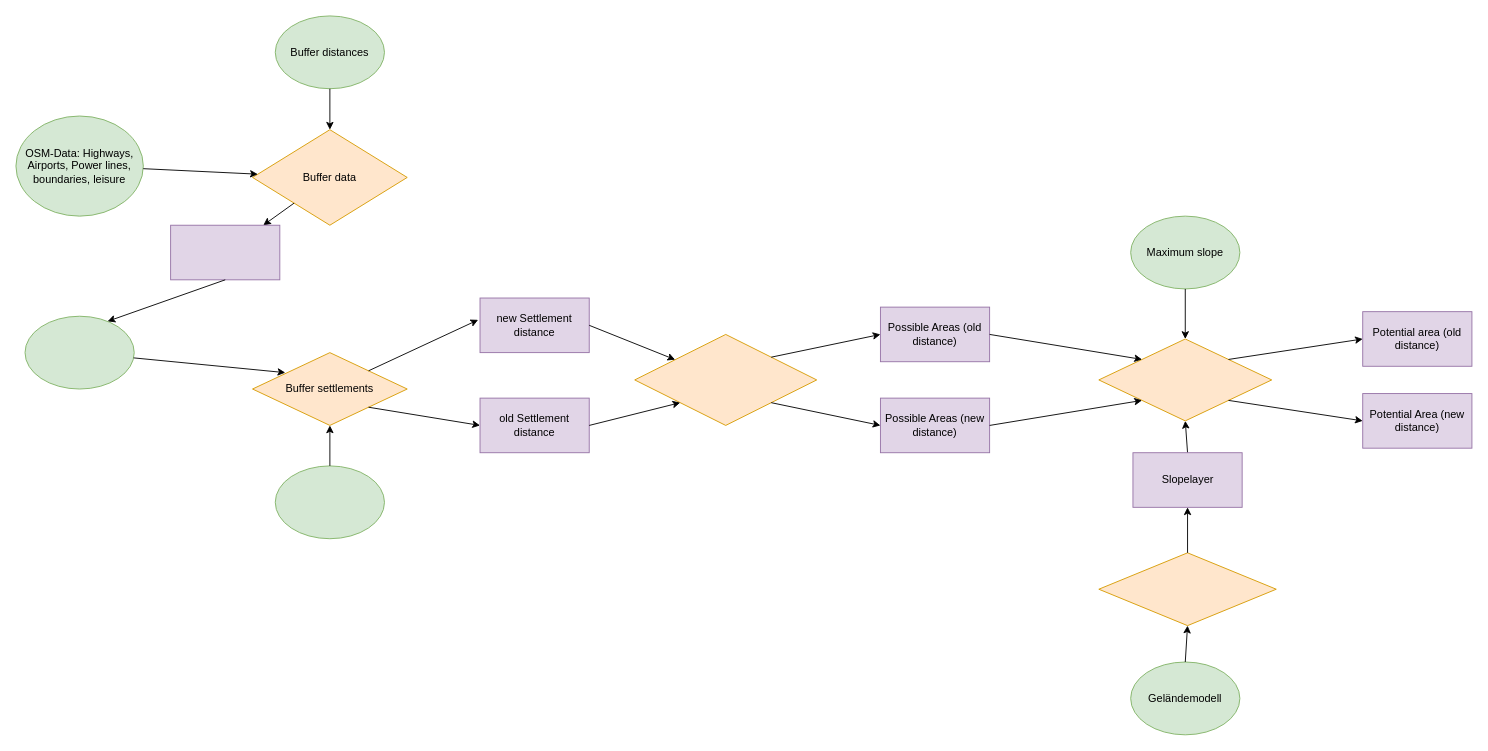
Some shapes in this 1488 by 751 pixel diagram are drawn without their labels. The shapes that lost their labels are listed below. From the top down, each one's box as (x1, y1, x2, y2) in pixels, then its label:
(170, 224, 280, 280): Restricted Areas
(24, 315, 134, 389): OSM-Data: Settlements
(634, 334, 817, 425): Merge buffer areas and invert results
(1098, 338, 1272, 421): Clip
(274, 465, 384, 539): Buffer distances to settlements
(1098, 552, 1276, 626): Slope
